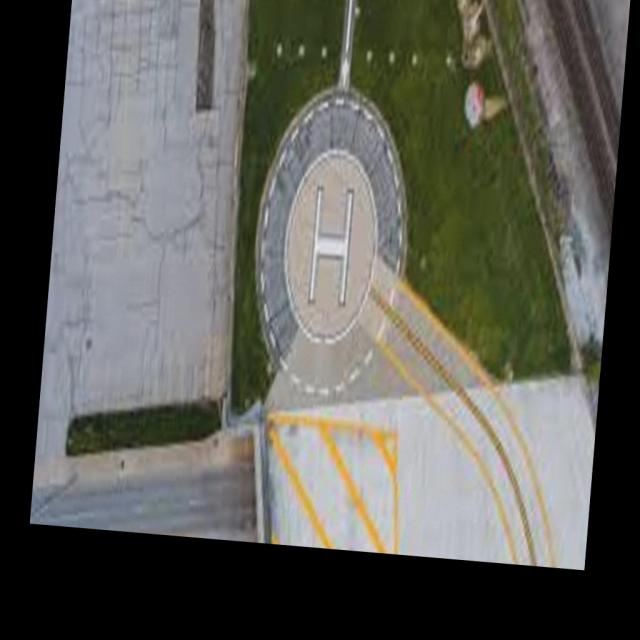helipad: (279, 145, 379, 349)
